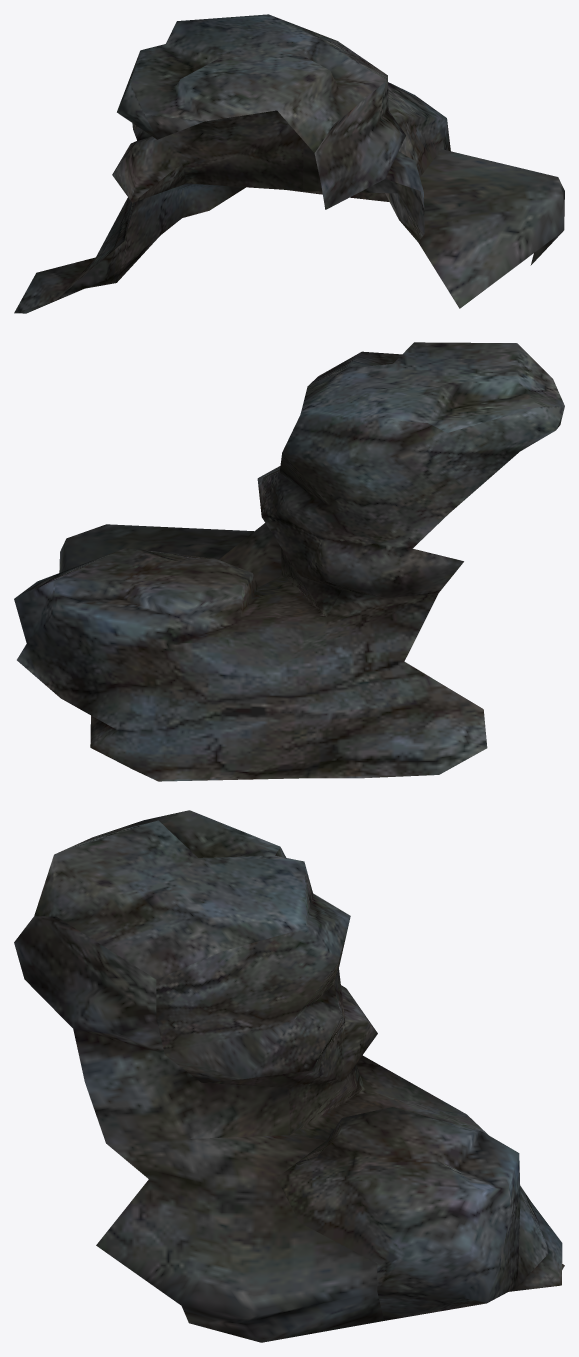
The model's file is S_Rock_Yellow034_H25.FBX.
3 views of the same model, one above another, from view 1: azimuth 30°, elevation 25°; view 2: azimuth 150°, elevation 25°; view 3: azimuth 270°, elevation 25° (orthographic). The views are drawn at different scales.
Parts seen in each view (by area): view 1: S_Rock_Yellow034_H25; view 2: S_Rock_Yellow034_H25; view 3: S_Rock_Yellow034_H25.
Part boxes in pixels (x1,y1,x2,y2): S_Rock_Yellow034_H25: (14,14,564,313); S_Rock_Yellow034_H25: (14,342,564,781); S_Rock_Yellow034_H25: (14,810,564,1342).
Size of the model in its own units: 853 by 757 by 536.
Materials: 1 (1 with a texture image).
